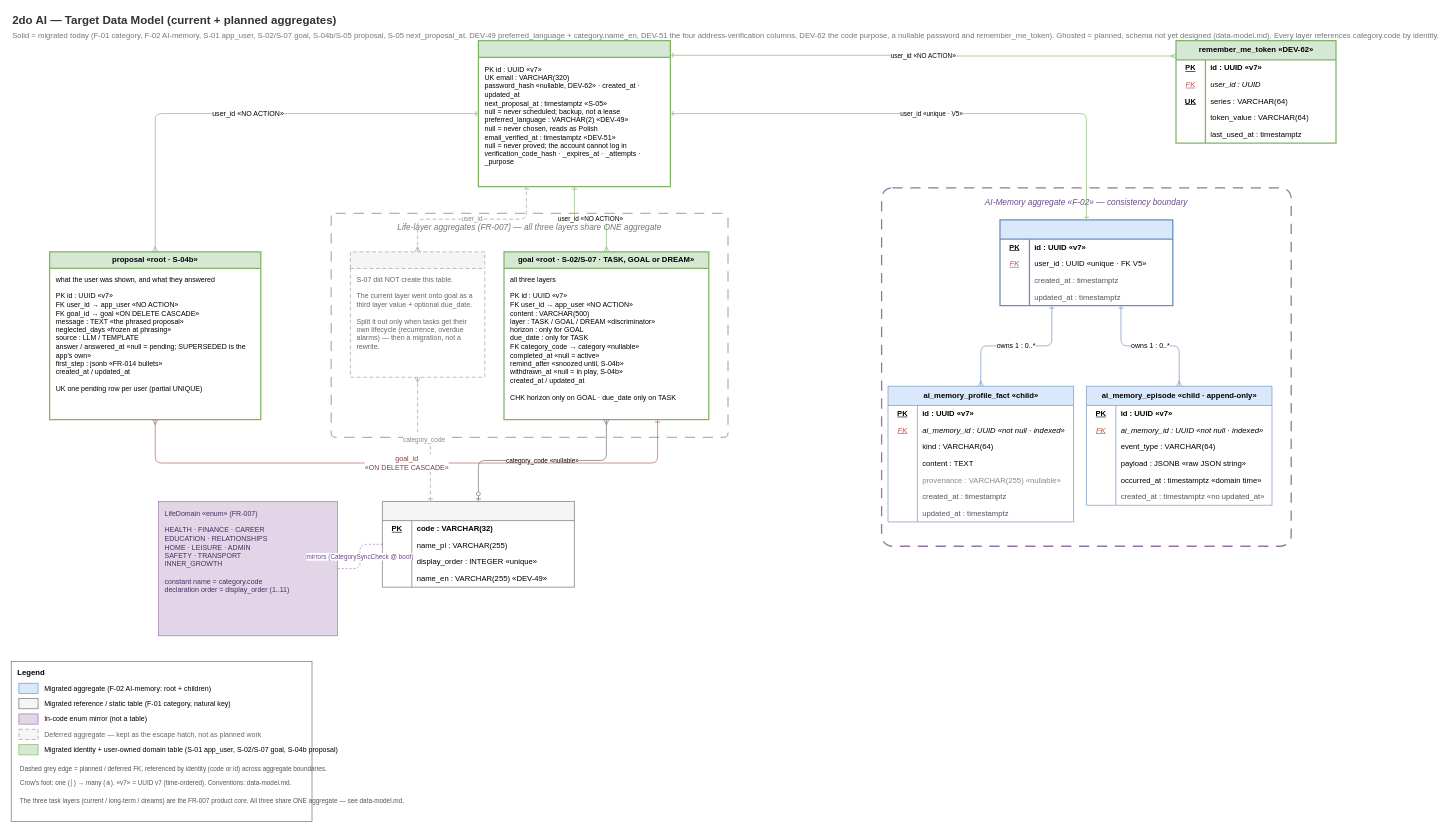
Image size: 1450x833. Some labels were removed from this diagram. Each missing label, with the box of its shape:
ai_memory «aggregate root»: (999, 219, 1173, 306)
app_user «identity · S-01»: (477, 40, 671, 187)
category «reference / static»: (382, 501, 574, 587)
task «deferred split · not planned»: (350, 251, 485, 377)
